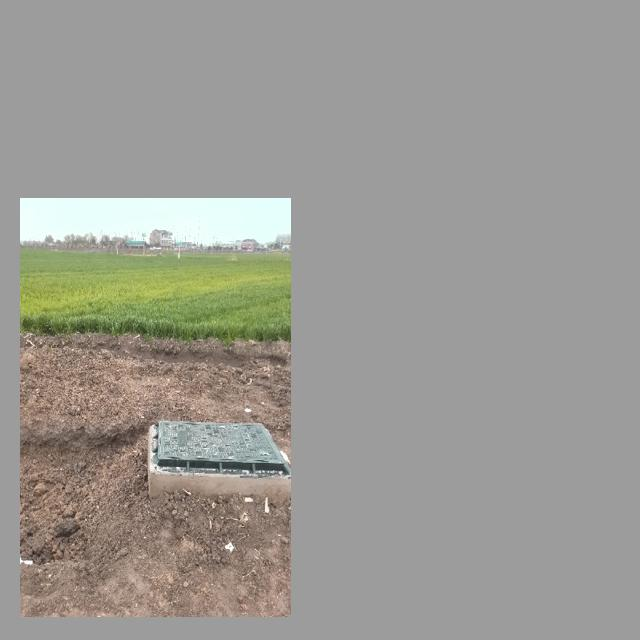good: (149, 417, 288, 464)
